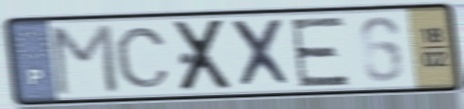6: (358, 14, 406, 85)
C: (112, 25, 174, 91)
E: (287, 14, 353, 90)
M: (49, 21, 122, 98)
X: (226, 17, 298, 91), (170, 16, 237, 95)
